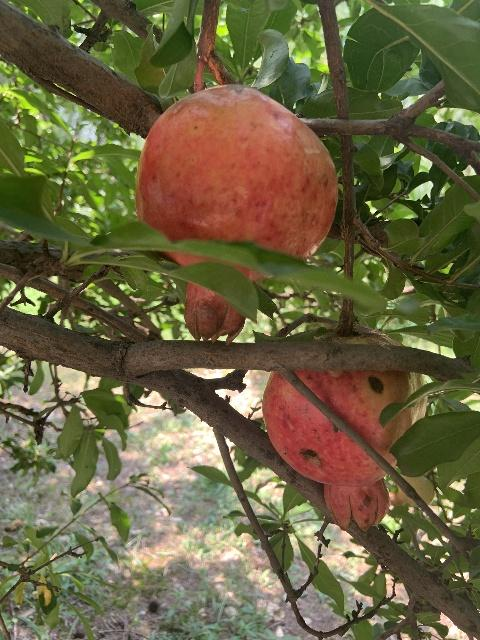mid-growth: (387, 475, 434, 507)
ripe: (133, 84, 338, 346), (262, 323, 427, 532)
